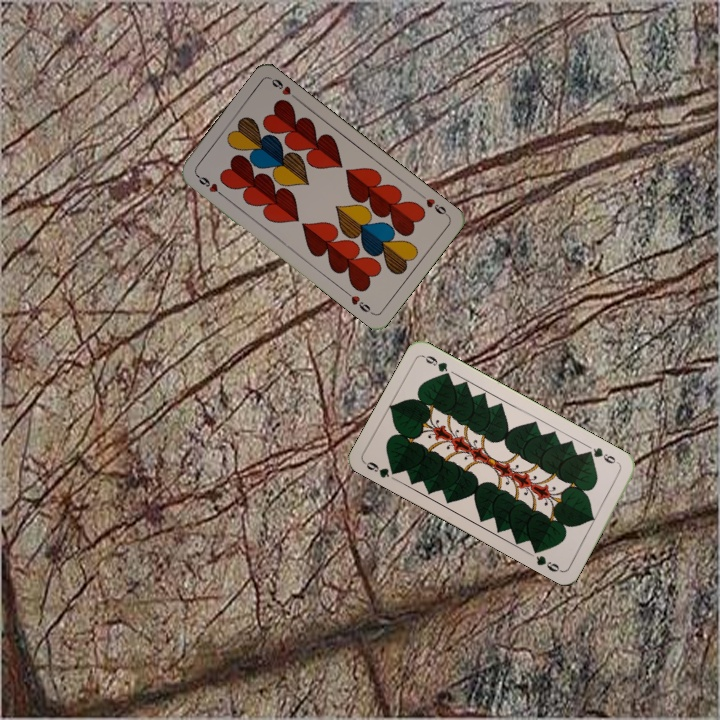G9: (582, 443, 622, 467), (361, 458, 402, 480)
H9: (416, 190, 451, 219), (193, 171, 227, 200)
